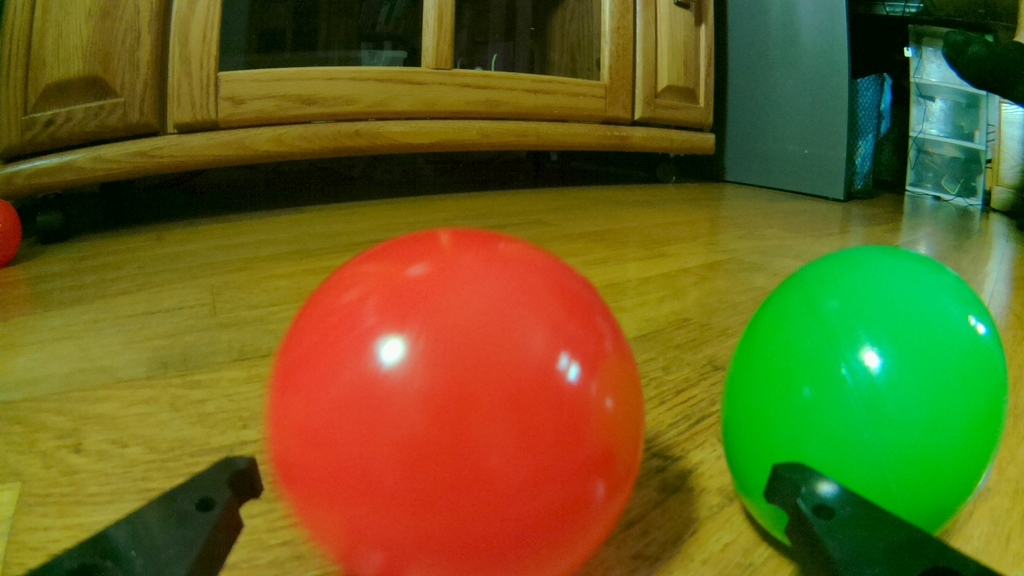ball: (720, 244, 1012, 560)
